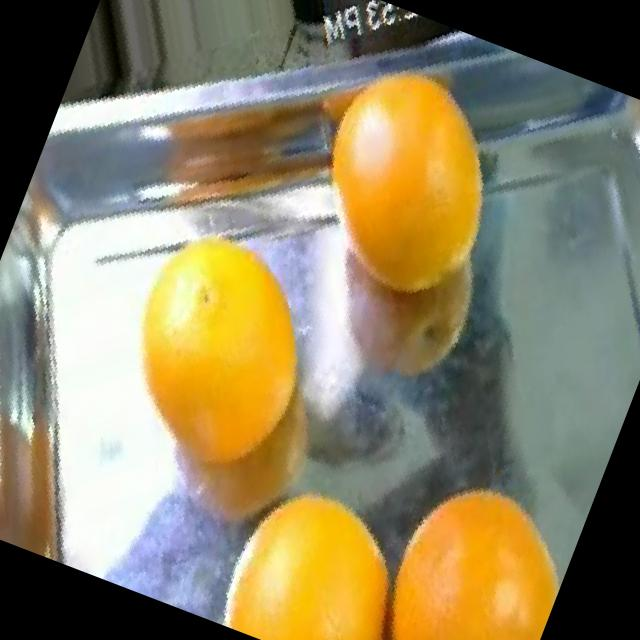Fruit: (196, 446, 438, 640), (52, 0, 175, 146)
